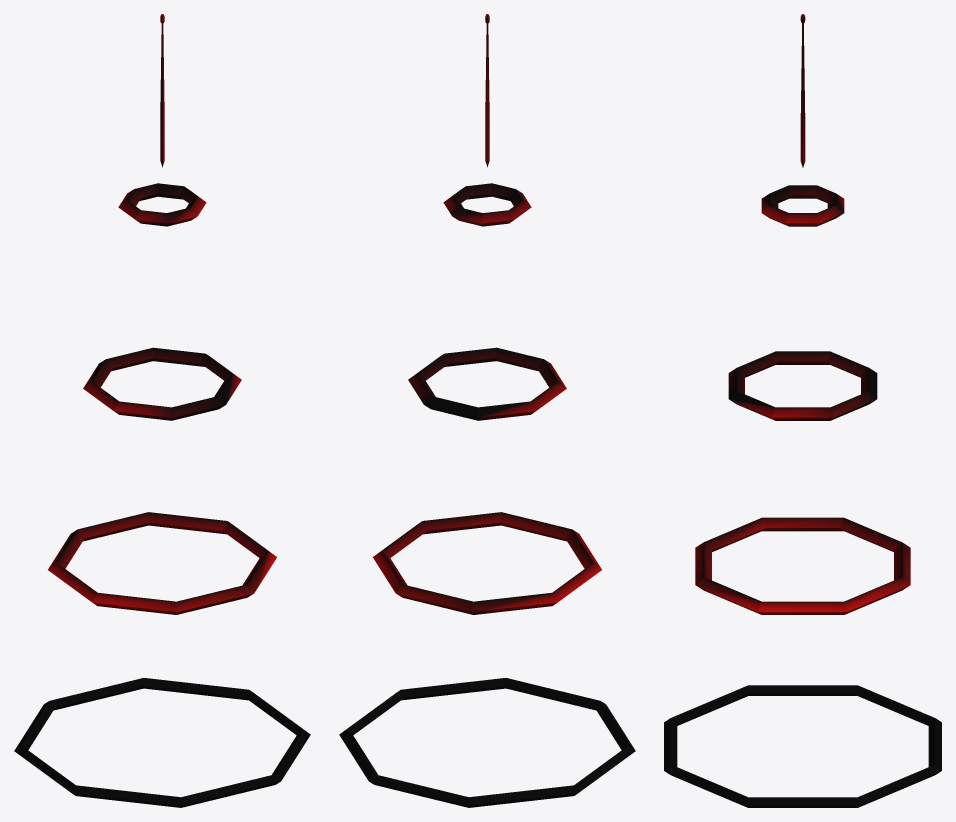
Rendered from TowerCollision_2_export.obj.
3 renders of one model, left to right at view 1: azimuth 30°, elevation 25°; view 2: azimuth 150°, elevation 25°; view 3: azimuth 270°, elevation 25°, orthographic.
Visible parts, largest first — view 1: TowerCollision_2; view 2: TowerCollision_2; view 3: TowerCollision_2.
Part boxes in pixels (left/top/right/bottom): TowerCollision_2: left=14, top=14, right=310, bottom=807; TowerCollision_2: left=339, top=14, right=635, bottom=807; TowerCollision_2: left=664, top=14, right=941, bottom=807.
Bounding box in the file's own units: 5.59 × 16.37 × 5.59.
